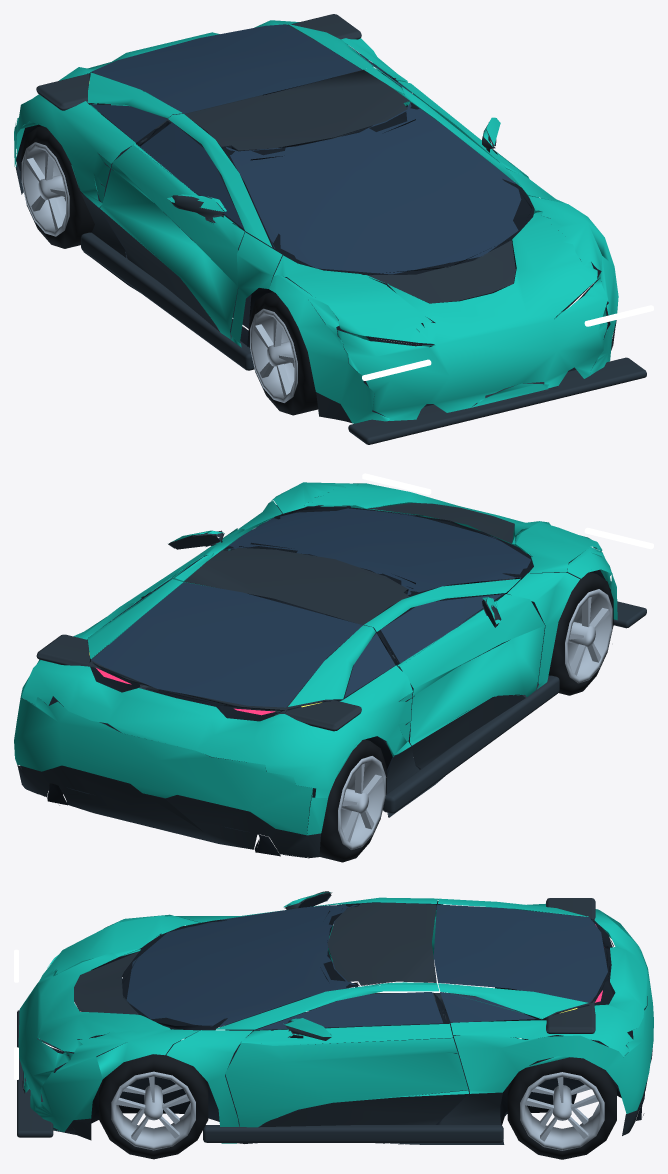
Rendered from apex-lod2.glb.
3 renders of one model, top to bottom at view 1: azimuth 30°, elevation 25°; view 2: azimuth 150°, elevation 25°; view 3: azimuth 270°, elevation 25°, orthographic. The views are drawn at different scales.
Parts seen in each view (by area): view 1: Body, WheelRearR, WheelFrontR; view 2: Body, WheelRearR, WheelFrontR; view 3: Body, WheelFrontL, WheelRearL.
Boxes of the visible parts, x1=… form: Body: x1=14, y1=14, x2=653, y2=444; WheelRearR: x1=20, y1=126, x2=94, y2=248; WheelFrontR: x1=249, y1=292, x2=317, y2=415; Body: x1=14, y1=473, x2=653, y2=858; WheelRearR: x1=319, y1=739, x2=386, y2=862; WheelFrontR: x1=548, y1=572, x2=613, y2=695; Body: x1=14, y1=891, x2=653, y2=1144; WheelFrontL: x1=99, y1=1051, x2=208, y2=1159; WheelRearL: x1=507, y1=1057, x2=616, y2=1159.
Bounding box in the file's own units: 2.34 × 1.15 × 4.38.
